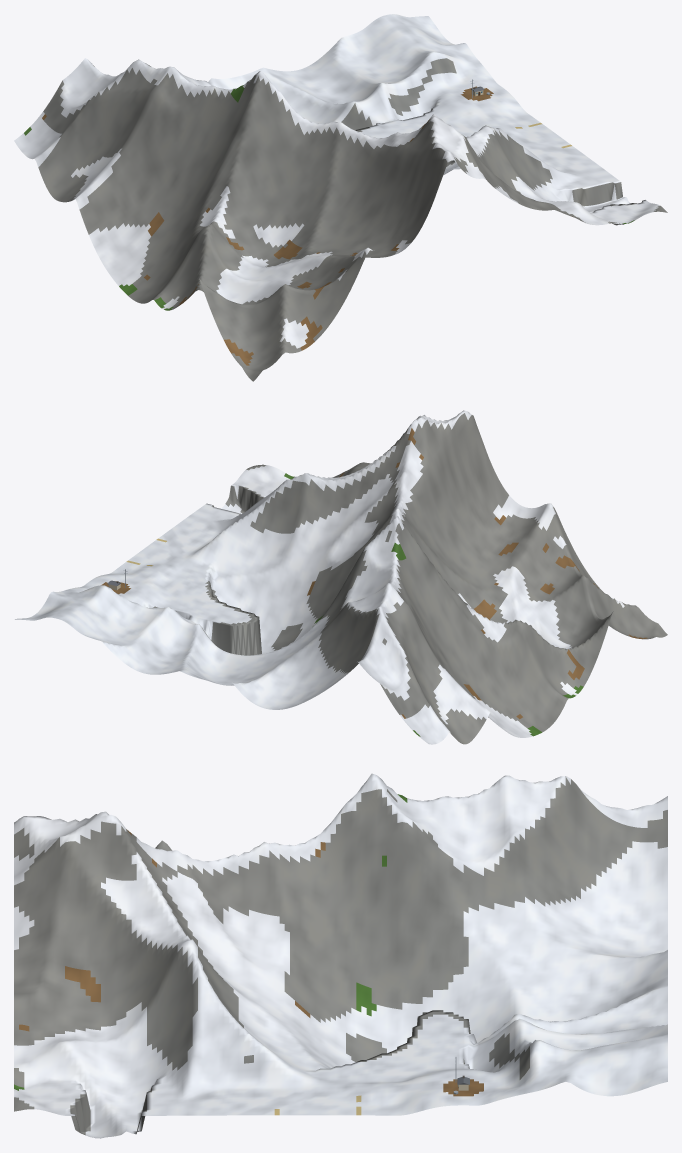
Rendered from chunk_5_1.glb.
3 views of the same model, one above another, from view 1: azimuth 30°, elevation 25°; view 2: azimuth 150°, elevation 25°; view 3: azimuth 270°, elevation 25° (orthographic). The views are drawn at different scales.
Parts seen in each view (by area): view 1: Surface_Gravel, Surface_Snow, Surface_Dirt; view 2: Surface_Gravel, Surface_Snow, Surface_Dirt; view 3: Surface_Snow, Surface_Gravel, Surface_Dirt, Surface_Grass.
Part boxes in pixels (left/top/right/bottom): Surface_Gravel: left=38, top=58, right=667, bottom=381; Surface_Snow: left=14, top=14, right=659, bottom=348; Surface_Dirt: left=42, top=86, right=572, bottom=365; Surface_Gravel: left=153, top=413, right=667, bottom=744; Surface_Snow: left=15, top=410, right=624, bottom=744; Surface_Dirt: left=101, top=428, right=647, bottom=719; Surface_Snow: left=14, top=773, right=667, bottom=1138; Surface_Gravel: left=14, top=777, right=667, bottom=1135; Surface_Dirt: left=19, top=829, right=483, bottom=1096; Surface_Grass: left=14, top=794, right=407, bottom=1090.
Bounding box in the file's own units: 256 × 115 × 256.
